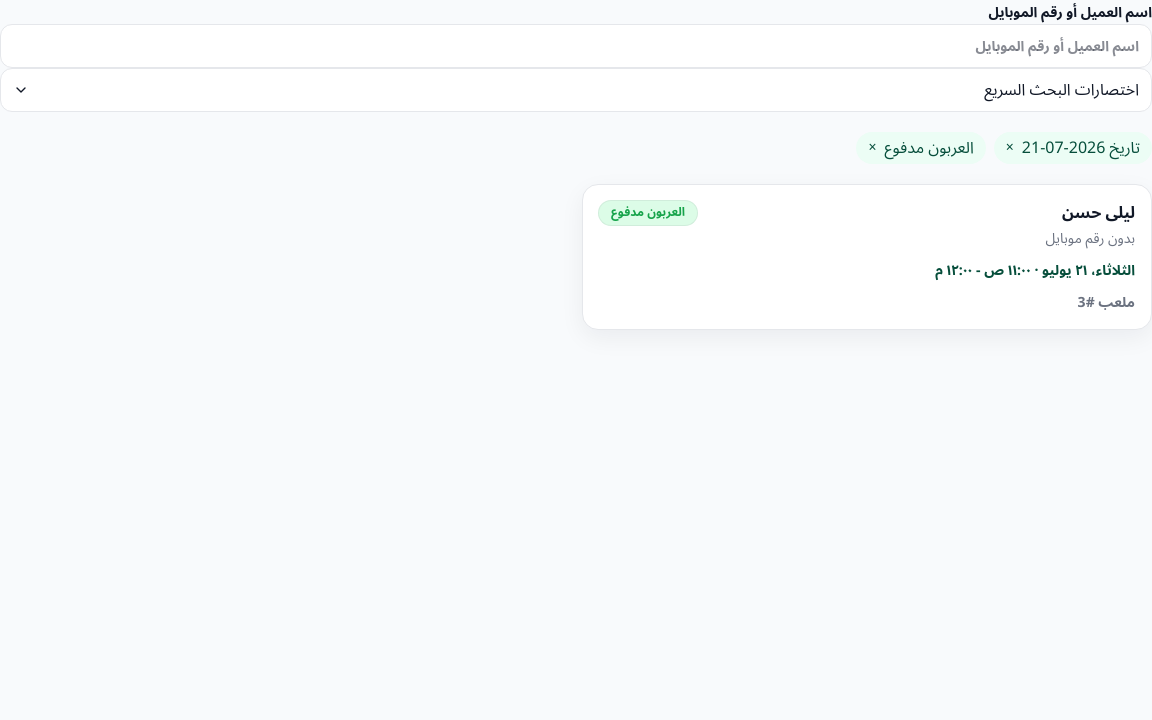
it: BookingsListPage › uses backend full-payment errors to guide users to payment
Step 1. Click the button with aria-label "مراجعة حجز ليلى حسن" → (867, 257), box [582,184,1151,330]
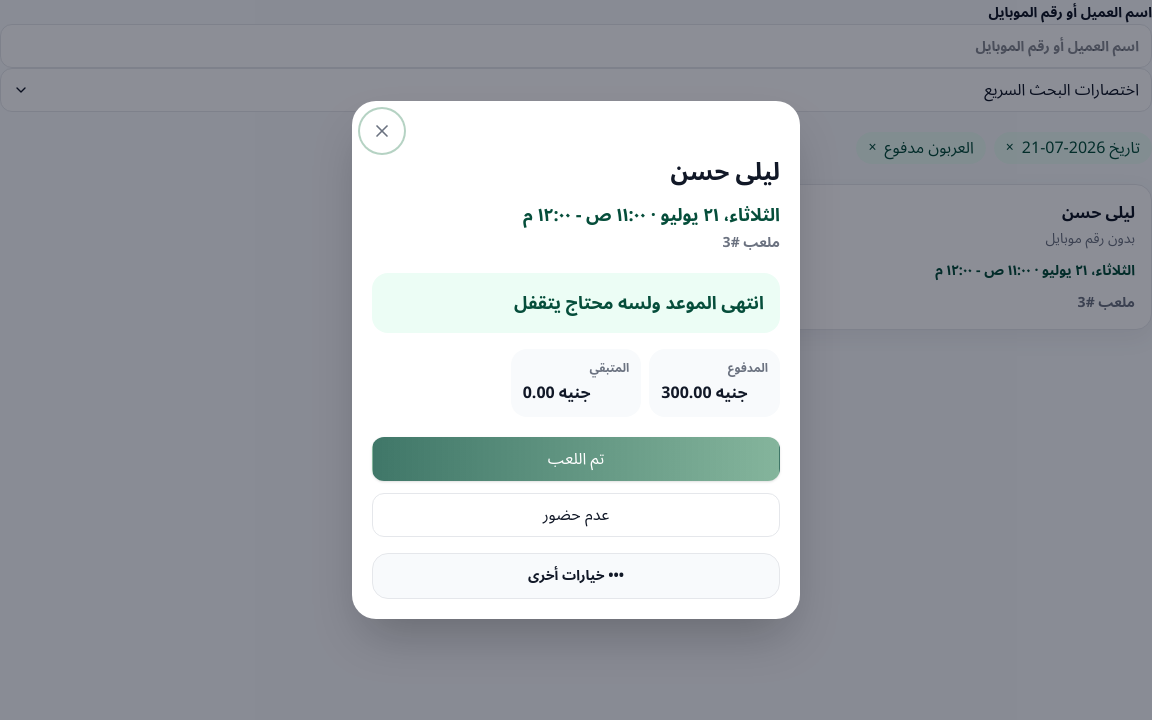
Step 2. Click the button "تم اللعب" → (576, 459), box [372,437,780,481]
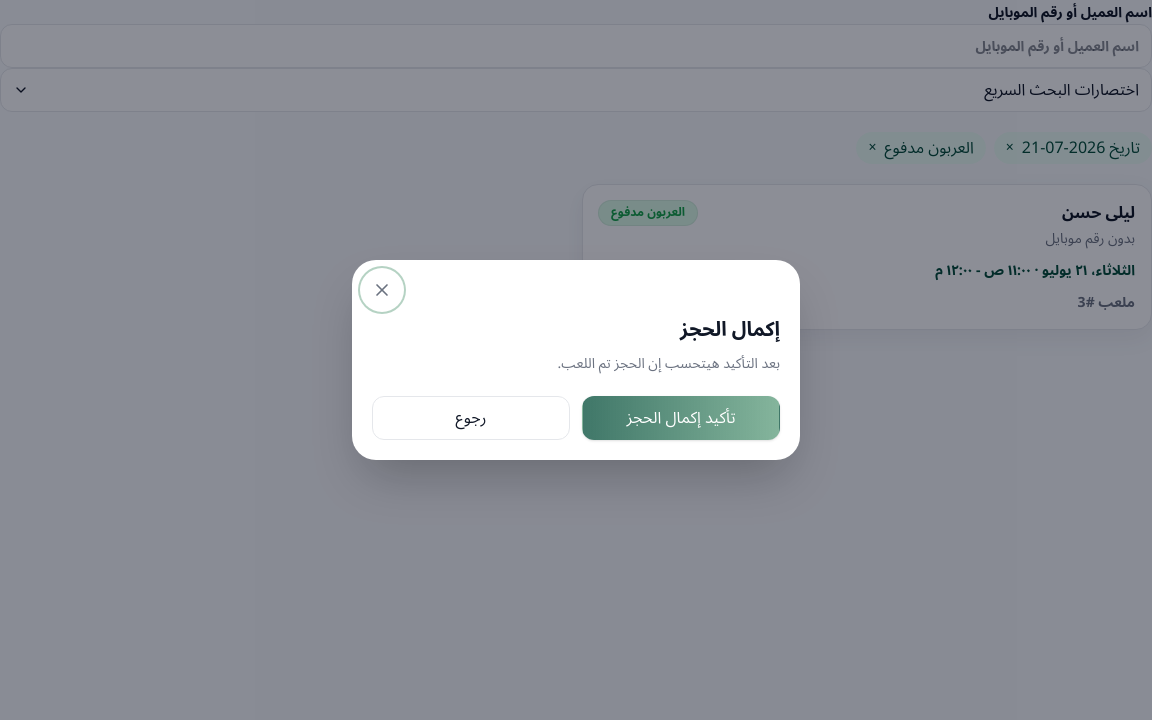
Step 3. Click the button "تأكيد إكمال الحجز" → (681, 418), box [582,396,780,440]
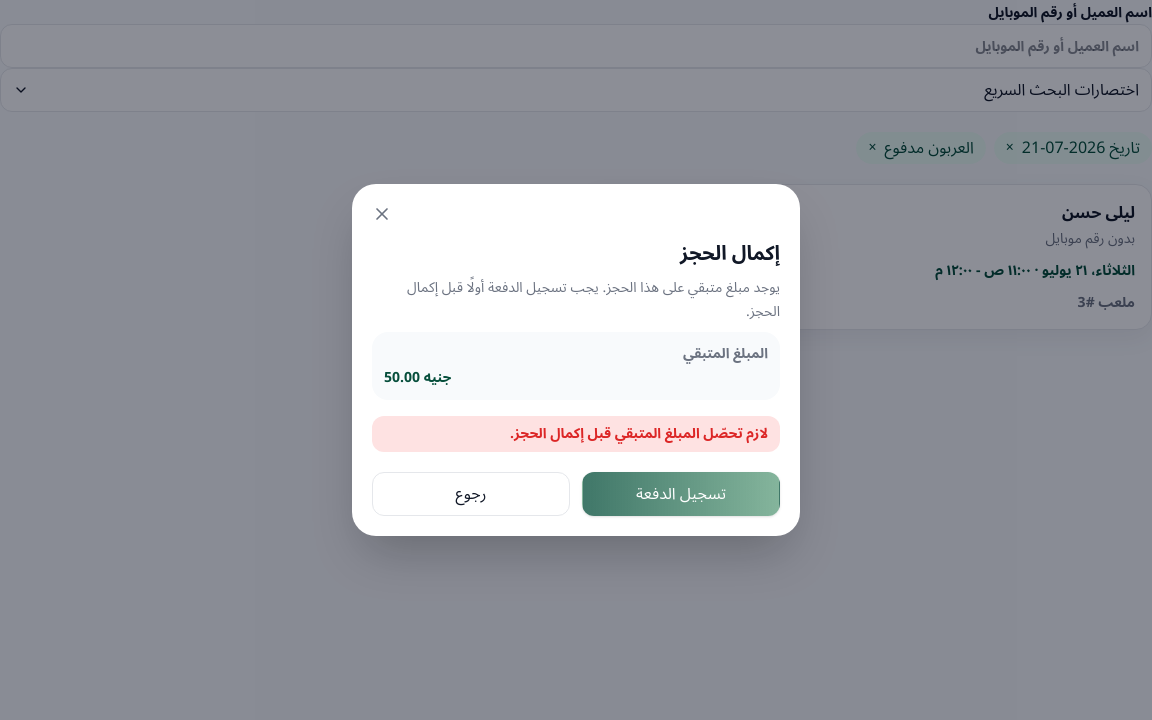
Expected: the text "لازم تحصّل المبلغ المتبقي قبل إكمال الحجز." is shown, [372,416,780,452]
Step 4. Click the button "تسجيل الدفعة" → (681, 494), box [582,472,780,516]
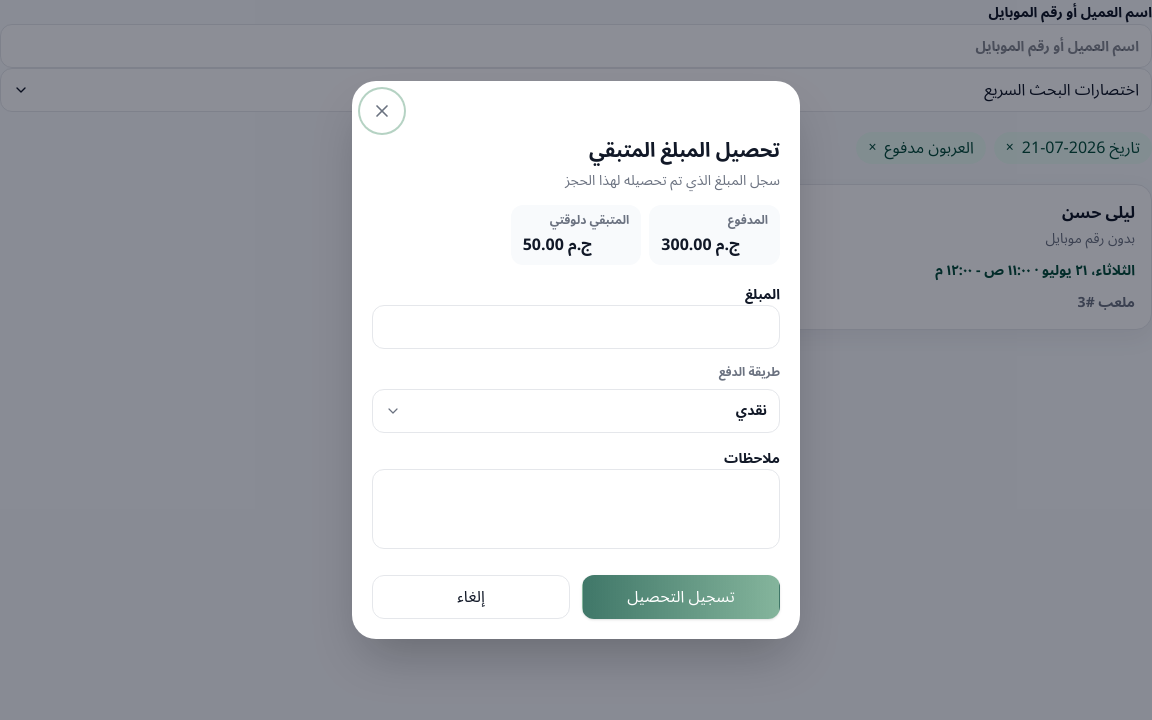
Expected: the heading "تحصيل المبلغ المتبقي" is shown, [589,130,780,172]
